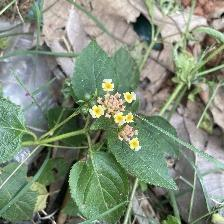common lanthana: (90, 78, 147, 152)
